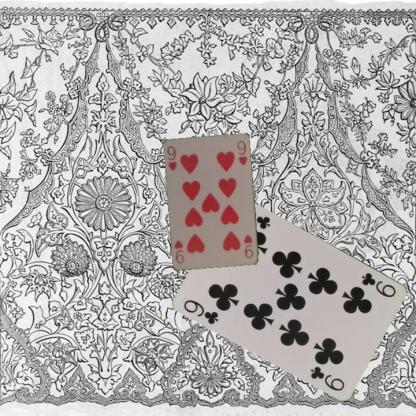9c: (181, 296, 221, 326), (360, 270, 398, 299)
9h: (164, 143, 178, 172), (241, 232, 255, 259)
